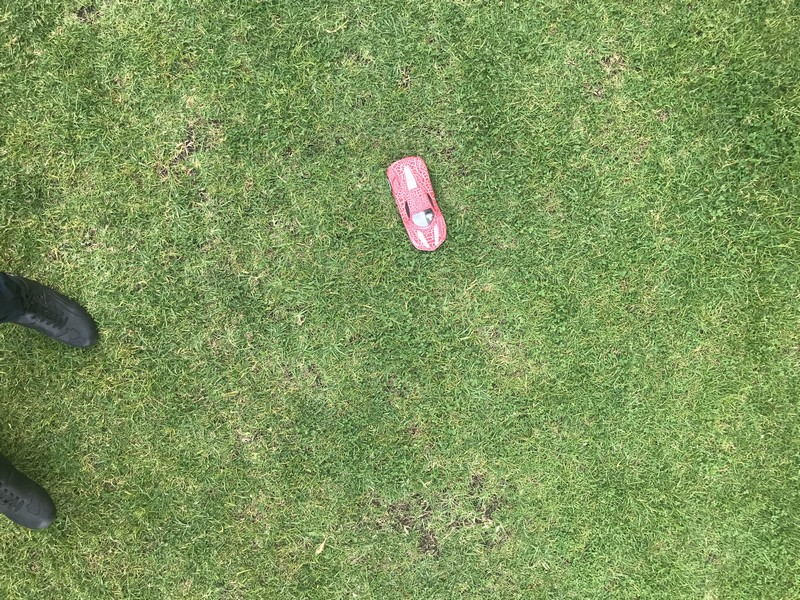RC: (384, 154, 449, 252)
